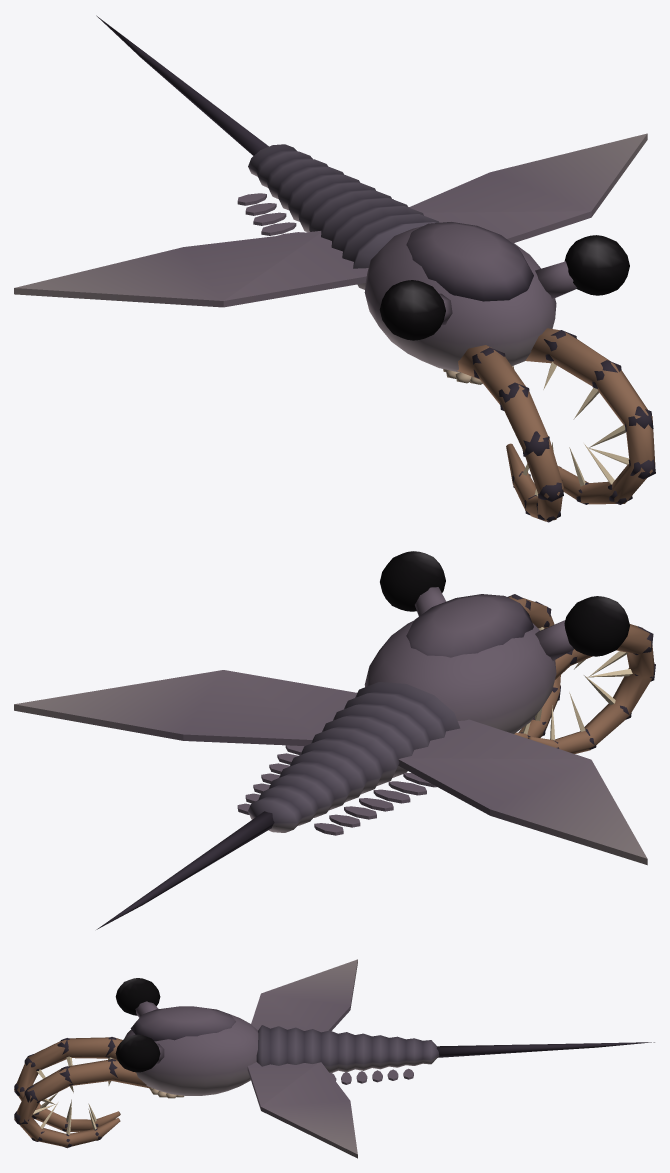
The model's file is Schinderhannes.fbx.
3 views of the same model, one above another, from view 1: azimuth 30°, elevation 25°; view 2: azimuth 150°, elevation 25°; view 3: azimuth 270°, elevation 25° (orthographic). The views are drawn at different scales.
Visible parts, largest first — view 1: Schinderhannes; view 2: Schinderhannes; view 3: Schinderhannes.
Boxes of the visible parts, x1,y1,x2,y2 form: Schinderhannes: (14, 15, 655, 522); Schinderhannes: (14, 551, 655, 929); Schinderhannes: (14, 959, 654, 1158).
Bounding box in the file's own units: 1.24 × 0.3911 × 1.72.
